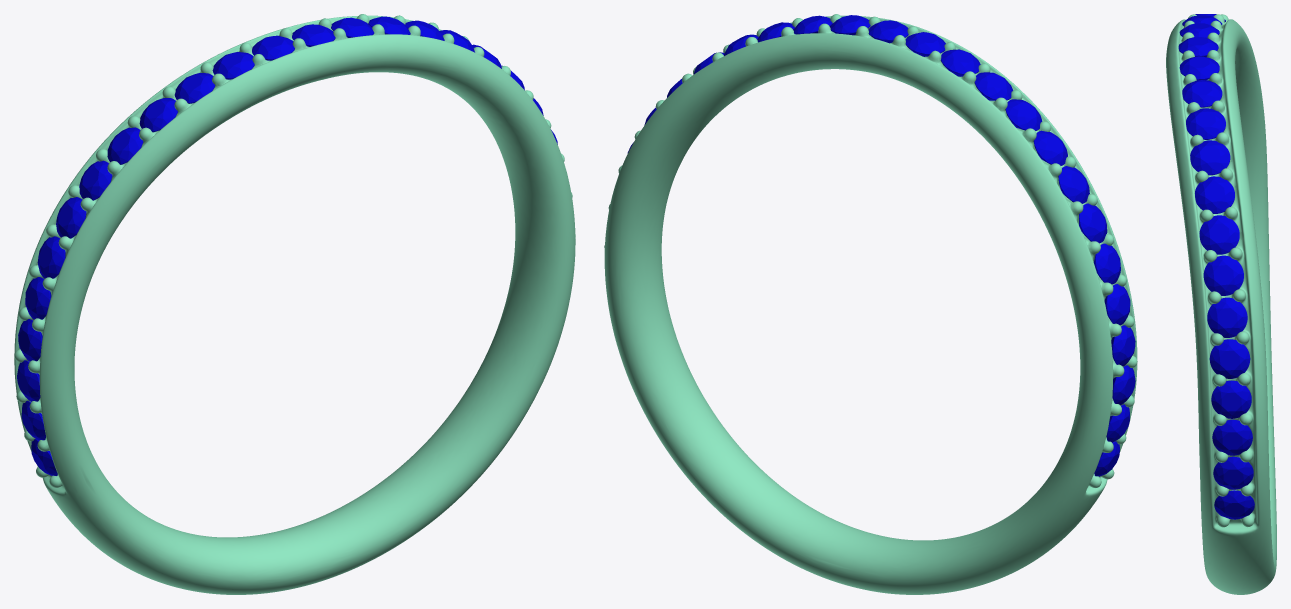
3 renders of one model, left to right at view 1: azimuth 30°, elevation 25°; view 2: azimuth 150°, elevation 25°; view 3: azimuth 270°, elevation 25°, orthographic. The views are drawn at different scales.
Visible parts, largest first — view 1: Metal03, Diamond_Band.018, Diamond_Band.019, Diamond_Band.020, Diamond_Band.017, Diamond_Band.021, Diamond_Band.016, Diamond_Band.022, Diamond_Band.015, Diamond_Band.014, Diamond_Band.023; view 2: Metal03, Diamond_Band.019, Diamond_Band.018, Diamond_Band.020, Diamond_Band.017, Diamond_Band.021, Diamond_Band.016, Diamond_Band.015, Diamond_Band.022, Diamond_Band.014, Diamond_Band.023; view 3: Metal03, Diamond_Band.005, Diamond_Band.006, Diamond_Band.004, Diamond_Band.007, Diamond_Band.003, Diamond_Band.008, Diamond_Band.002, Diamond_Band.009, Diamond_Band.001, Diamond_Band.010, Diamond_Band (+5 smaller).
Boxes of the visible parts, bbox=[...] form: Metal03: bbox=[14, 14, 575, 594]; Diamond_Band.018: bbox=[107, 127, 143, 164]; Diamond_Band.019: bbox=[79, 160, 112, 200]; Diamond_Band.020: bbox=[56, 197, 86, 238]; Diamond_Band.017: bbox=[139, 98, 177, 132]; Diamond_Band.021: bbox=[37, 236, 65, 278]; Diamond_Band.016: bbox=[174, 73, 215, 103]; Diamond_Band.022: bbox=[25, 277, 51, 319]; Diamond_Band.015: bbox=[212, 52, 254, 79]; Diamond_Band.014: bbox=[252, 35, 294, 60]; Diamond_Band.023: bbox=[18, 319, 42, 361]; Metal03: bbox=[604, 14, 1137, 594]; Diamond_Band.019: bbox=[1058, 166, 1089, 203]; Diamond_Band.018: bbox=[1033, 130, 1067, 165]; Diamond_Band.020: bbox=[1079, 203, 1107, 243]; Diamond_Band.017: bbox=[1005, 99, 1042, 130]; Diamond_Band.021: bbox=[1093, 243, 1120, 284]; Diamond_Band.016: bbox=[974, 72, 1012, 100]; Diamond_Band.015: bbox=[940, 49, 980, 76]; Diamond_Band.022: bbox=[1104, 284, 1130, 325]; Diamond_Band.014: bbox=[905, 32, 945, 56]; Diamond_Band.023: bbox=[1111, 325, 1135, 366]; Metal03: bbox=[1166, 14, 1276, 594]; Diamond_Band.005: bbox=[1207, 297, 1247, 337]; Diamond_Band.006: bbox=[1203, 255, 1243, 295]; Diamond_Band.004: bbox=[1209, 339, 1250, 378]; Diamond_Band.007: bbox=[1199, 215, 1239, 254]; Diamond_Band.003: bbox=[1211, 380, 1251, 418]; Diamond_Band.008: bbox=[1195, 176, 1234, 213]; Diamond_Band.002: bbox=[1212, 419, 1252, 455]; Diamond_Band.009: bbox=[1190, 140, 1230, 175]; Diamond_Band.001: bbox=[1213, 456, 1253, 489]; Diamond_Band.010: bbox=[1186, 108, 1225, 139]; Diamond_Band: bbox=[1214, 490, 1254, 519].
Size of the model in its own units: 20.81 by 20.83 by 3.98.
